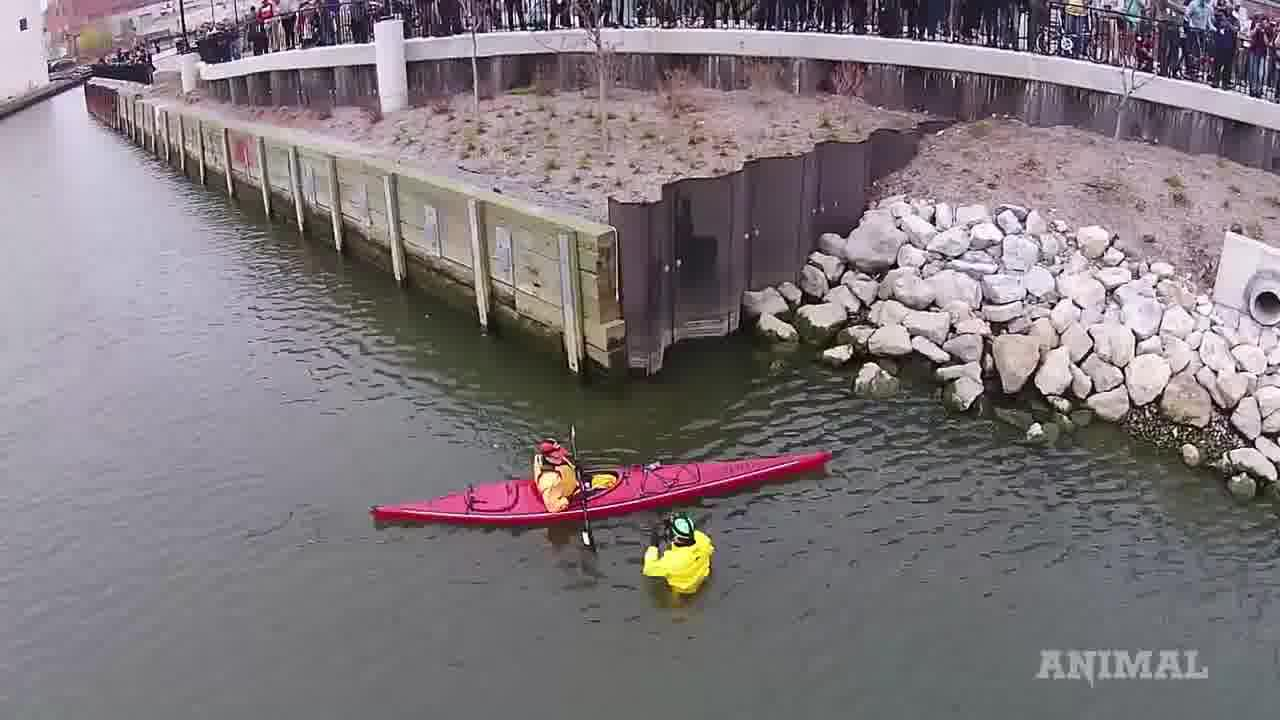swimmer: (643, 518, 724, 591)
